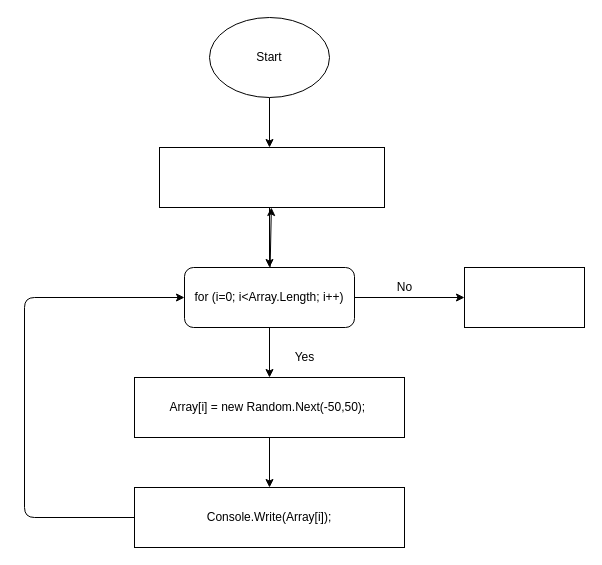
Image size: 602x565. Some labels were removed from this diagram. Here are the shapes that lost their labels. From the top down, the centre of each, then its label:
At point (271, 177): "int [] Array = new int [10]; int i=0;".
At point (524, 297): "The End".
